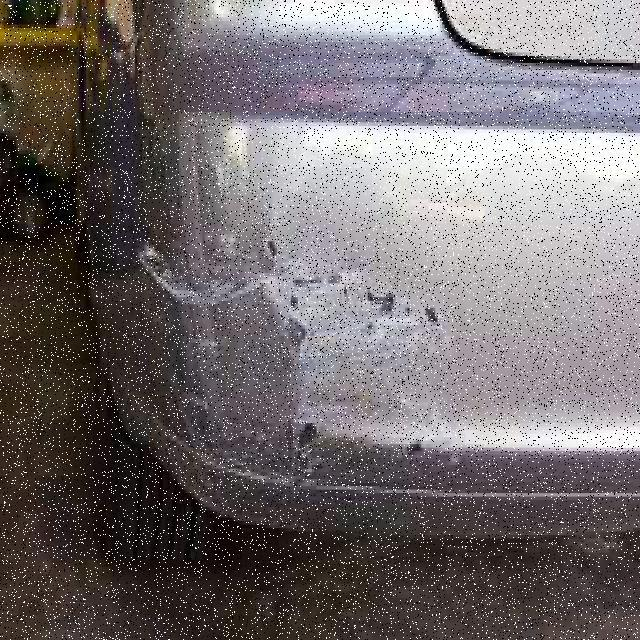rear-bumper-dent: (46, 87, 598, 577)
